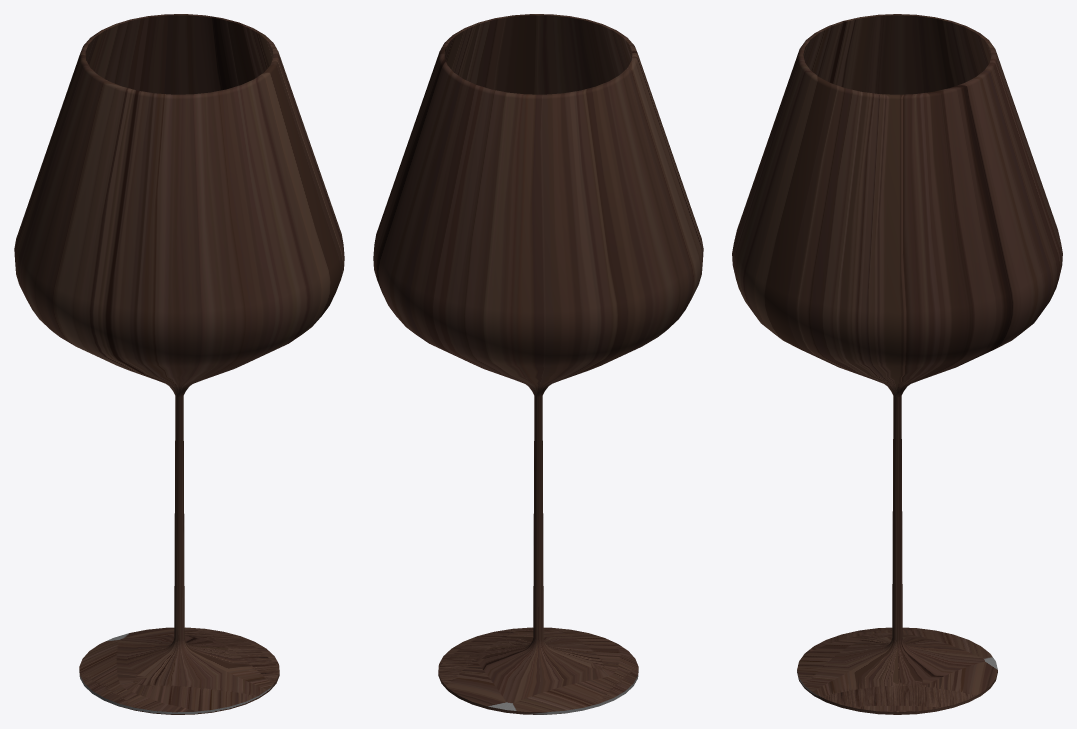
The model's file is WineGlass.obj.
3 views of the same model, side by side, from view 1: azimuth 30°, elevation 25°; view 2: azimuth 150°, elevation 25°; view 3: azimuth 270°, elevation 25° (orthographic).
Visible parts, largest first — view 1: Cylinder; view 2: Cylinder; view 3: Cylinder.
Boxes of the visible parts, bbox=[...] form: Cylinder: bbox=[14, 14, 344, 714]; Cylinder: bbox=[373, 14, 703, 714]; Cylinder: bbox=[732, 14, 1062, 714].
Bounding box in the file's own units: 4.22 × 8.68 × 4.22.
